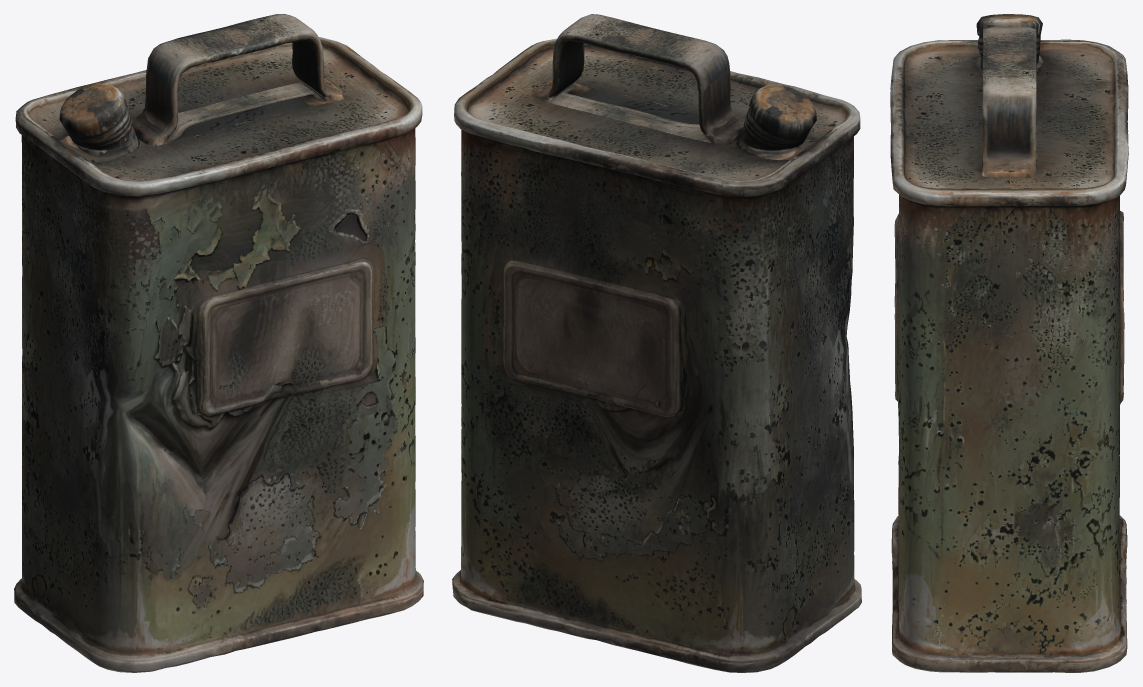
The model's file is Prop_KeroseneCan_Burnt.fbx.
The picture shows the model from 3 angles, left to right: view 1: azimuth 30°, elevation 25°; view 2: azimuth 150°, elevation 25°; view 3: azimuth 270°, elevation 25°; orthographic projection. The views are drawn at different scales.
Visible parts, largest first — view 1: texture_mapping; view 2: texture_mapping; view 3: texture_mapping.
Boxes of the visible parts, left/top/right/bottom form: texture_mapping: left=14, top=14, right=423, bottom=672; texture_mapping: left=452, top=14, right=861, bottom=672; texture_mapping: left=890, top=14, right=1128, bottom=672.
Size of the model in its own units: 0.6142 by 0.3944 by 1.
1 material, 1 textured.
